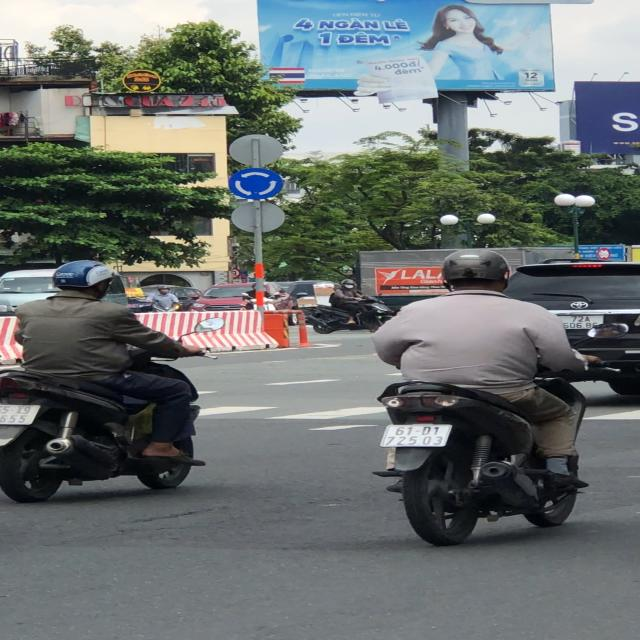Bien bao noi giao nhau chay theo vong xuyen: (222, 165, 294, 202)
